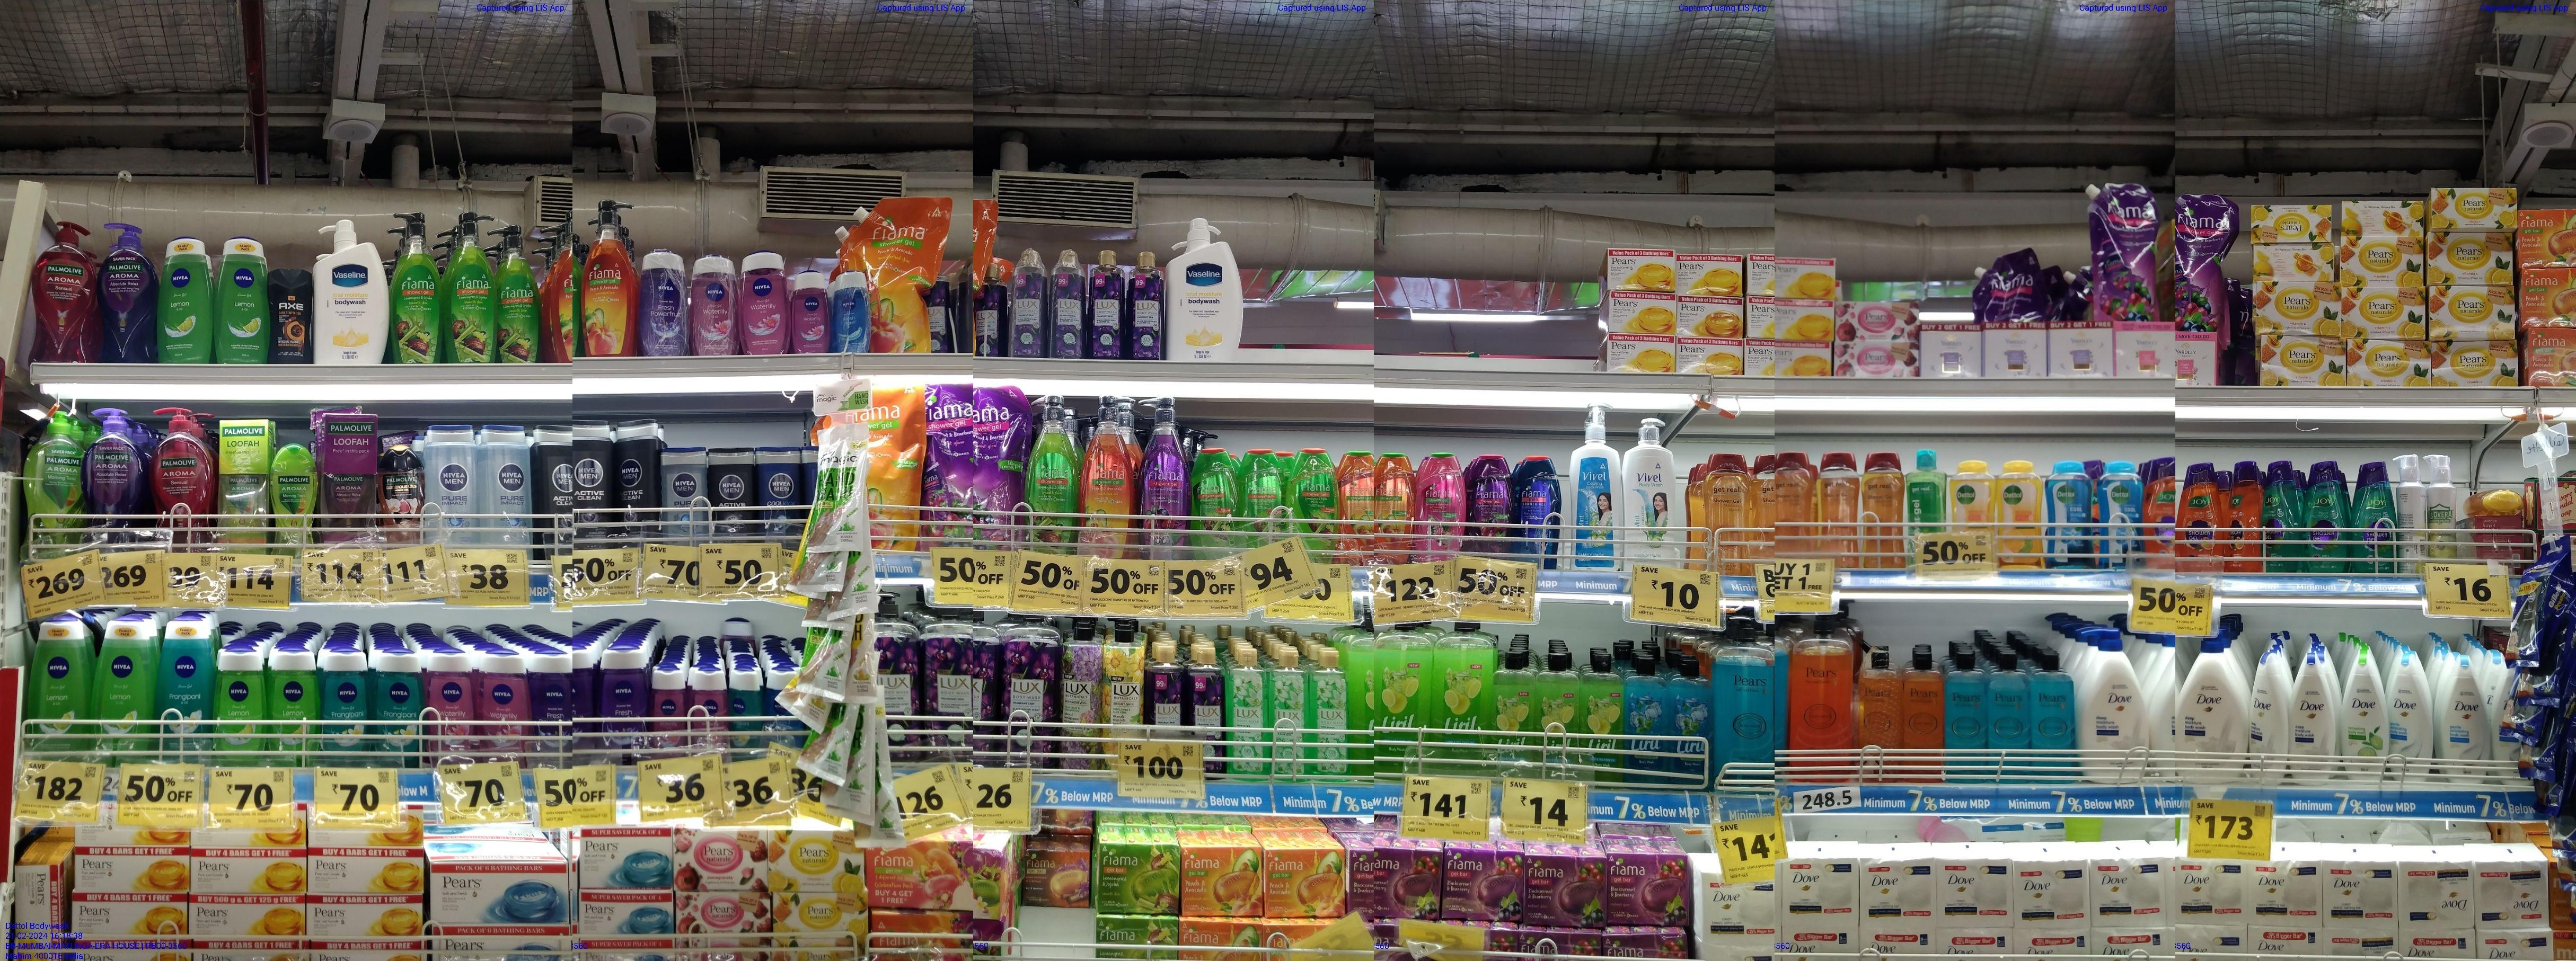Dettol_Bodywash_Cool: (2096, 460, 2146, 570), (2044, 460, 2093, 568)
Dettol_Bodywash_Refresh: (1993, 460, 2044, 568), (1947, 458, 1993, 532)
Dove_Deep_Moisture_Body_Wash_250ML: (2288, 652, 2334, 787), (2247, 652, 2288, 787)
Dove_Gentle_Exfoliating_Body_Wash_250ML: (2440, 654, 2491, 785), (2389, 652, 2431, 785)
Dove_Refreshing_Body_Wash_250ML: (2339, 655, 2389, 782)
Fiama_Shower_Gel_Lemongrass_and_Jojoba_250ML: (1285, 445, 1339, 549), (1191, 447, 1237, 555), (1237, 447, 1281, 544)
Fiama_Shower_Gel_Patchouli_and_Macadamia_250ML: (1414, 452, 1467, 562)
Fiama_Shower_Gel_Peach_and_Avocado_250ML: (1373, 452, 1416, 563)
Get_Real_Shower_Gel_Moisturising_Glycerin_300ML: (1704, 450, 1750, 572), (1860, 450, 1904, 568), (1815, 448, 1860, 559)
Joy_Shower_Gel_Mandarin_and_Lemongrass_250ML: (2175, 462, 2221, 572), (2221, 460, 2262, 572)
Joy_Shower_Gel_Mint_and_Eucalyptus_250ML: (2349, 460, 2397, 573), (2300, 460, 2348, 572), (2262, 458, 2300, 573)
Liril_Cooling_Mint_Body_Wash_250ML: (1667, 652, 1712, 782), (1625, 654, 1667, 784)
Liril_Lime_and_Tea_Tree_Oil_Body_Wash_250ML: (1579, 654, 1625, 782), (1490, 652, 1536, 761), (1536, 654, 1579, 762)
Lux_Black_Orchid_Scent_and_Juniper_Oil_Body_Wash_245ML: (1048, 246, 1088, 358), (1009, 248, 1048, 356), (1127, 248, 1165, 360), (1088, 248, 1124, 360), (1186, 646, 1222, 743), (1145, 644, 1184, 726)
Lux_Body_Wash_Skin_Detox_Freesia_Scent_and_Alove_Vera_245ML: (1224, 647, 1268, 780), (1268, 647, 1309, 782), (1309, 647, 1349, 782)
Nivea_Shower_Gel_Frangipani_and_Oil_250ML: (154, 618, 214, 751), (370, 649, 425, 764), (319, 646, 370, 767)
Nivea_Shower_Gel_Fresh_Powerfruit_250ML: (636, 248, 690, 356)
Nivea_Shower_Gel_Lemon_and_Oil_250ML: (90, 618, 153, 764), (26, 614, 90, 751), (154, 235, 215, 365), (214, 235, 268, 363), (266, 647, 320, 767), (215, 646, 266, 767)
Nivea_Shower_Gel_Waterlily_and_Oil_250ML: (476, 647, 531, 754), (738, 250, 790, 355), (424, 647, 475, 754), (688, 253, 736, 353)
Palmolive_Aroma_Morning_Tonic_Shower_Gel_250ML: (269, 442, 319, 555)
Palmolive_Luminous_Oils_Invigorating_Macadamia_Oil_With_Peony_250ML: (378, 444, 425, 547)
Pears_Pure_Glycerin_and_Mint_Extracts_Body_Wash_250ML: (1942, 649, 1989, 782), (1988, 649, 2031, 782), (2032, 651, 2075, 784)
